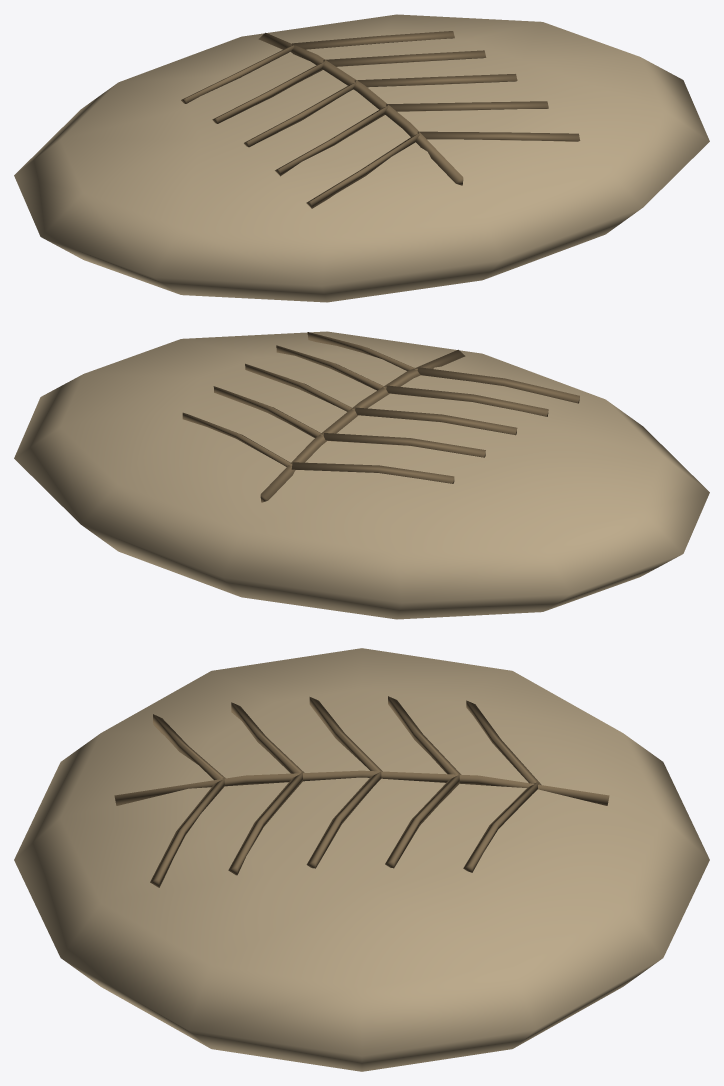
Rendered from exhibit_leaf_fossil.glb.
3 views of the same model, one above another, from view 1: azimuth 30°, elevation 25°; view 2: azimuth 150°, elevation 25°; view 3: azimuth 270°, elevation 25° (orthographic). The views are drawn at different scales.
Visible parts, largest first — view 1: Body; view 2: Body; view 3: Body.
Part boxes in pixels (<box>): Body: <box>14,14,709,302</box>; Body: <box>14,331,709,619</box>; Body: <box>14,648,709,1071</box>.
Bounding box in the file's own units: 0.32 × 0.0666 × 0.24.
